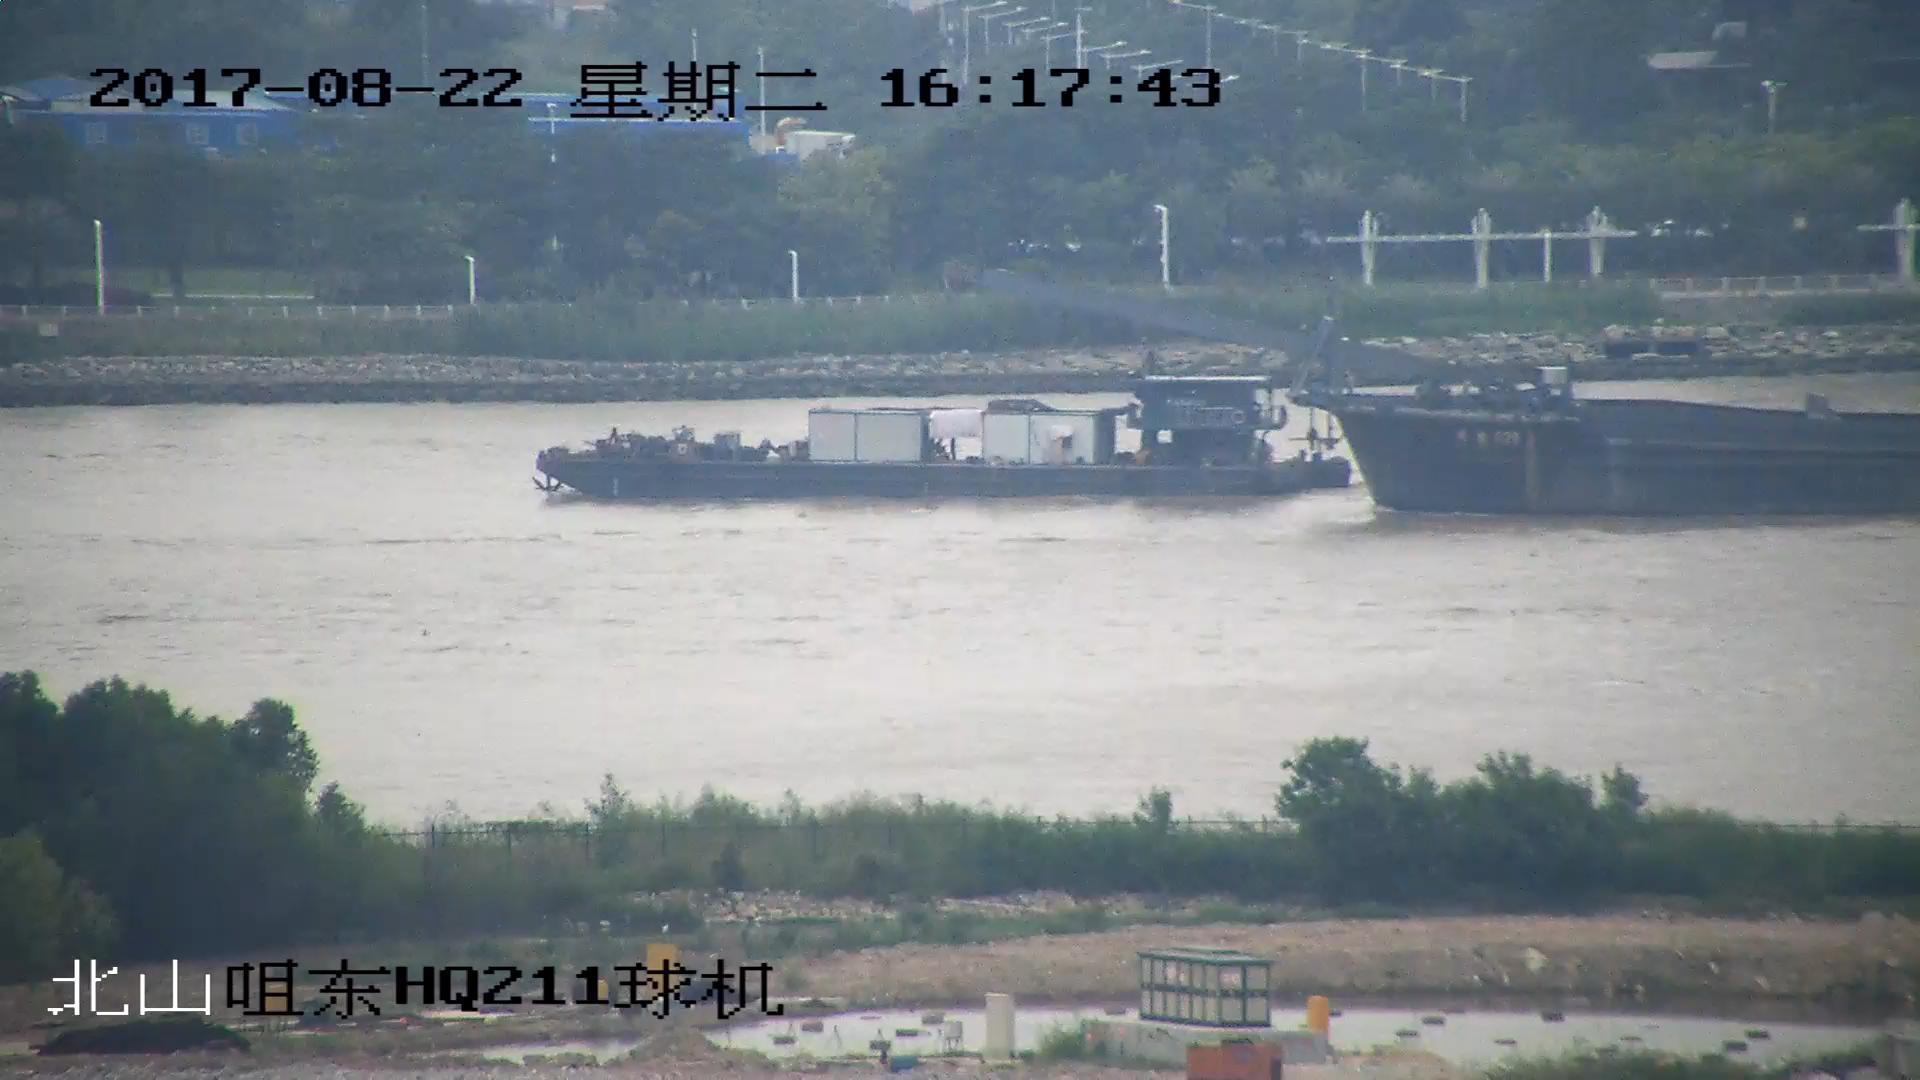Ship: (960, 260, 1920, 524), (535, 360, 1352, 506)
